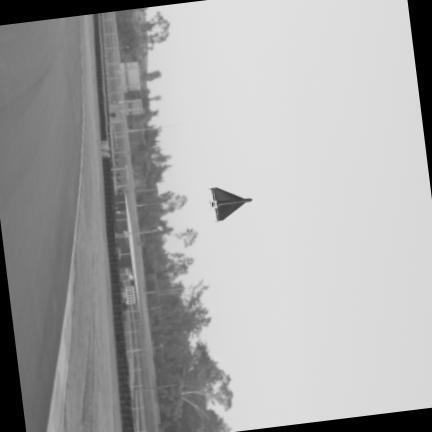Shahed: (211, 187, 251, 220)
